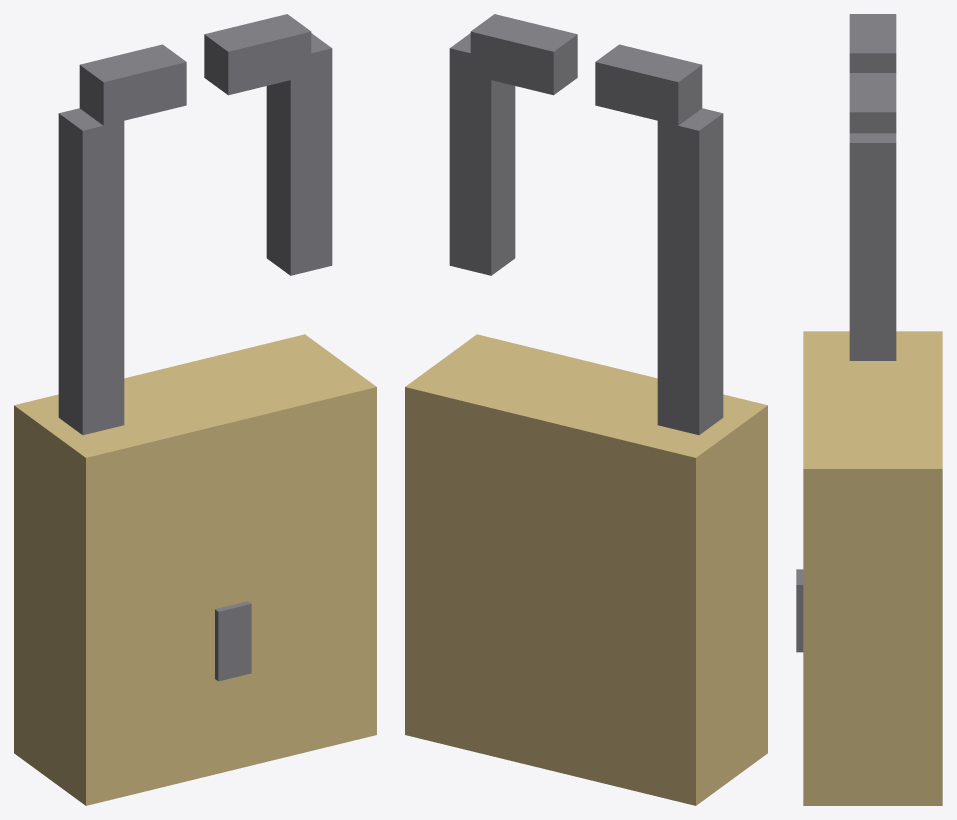
Rendered from prop-padlock-open-ls1.fbx.
3 renders of one model, left to right at view 1: azimuth 30°, elevation 25°; view 2: azimuth 150°, elevation 25°; view 3: azimuth 270°, elevation 25°, orthographic. The views are drawn at different scales.
Parts seen in each view (by area): view 1: prop-padlock-open-ls1; view 2: prop-padlock-open-ls1; view 3: prop-padlock-open-ls1.
Part boxes in pixels (bbox=[...]): prop-padlock-open-ls1: bbox=[14, 14, 376, 805]; prop-padlock-open-ls1: bbox=[405, 14, 767, 805]; prop-padlock-open-ls1: bbox=[796, 14, 942, 805].
Size of the model in its own units: 7 by 16 by 3.15.
